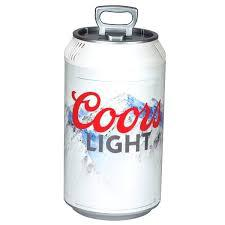beer: (62, 5, 166, 221)
